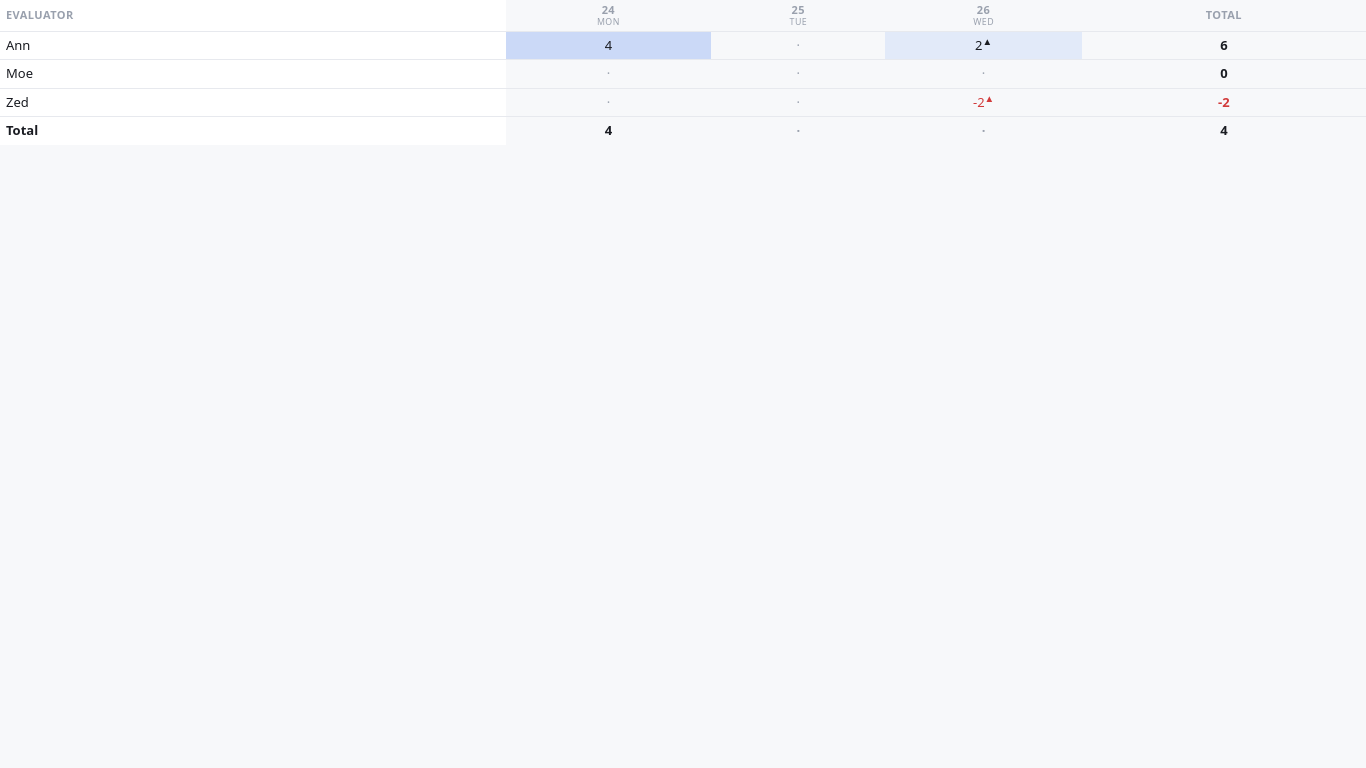
Test case: AssignHistoryMatrix › the giver's total shows what left, without repeating the per-day rows
Click the button "-2" at (1224, 103), box [1088,93,1360,112]
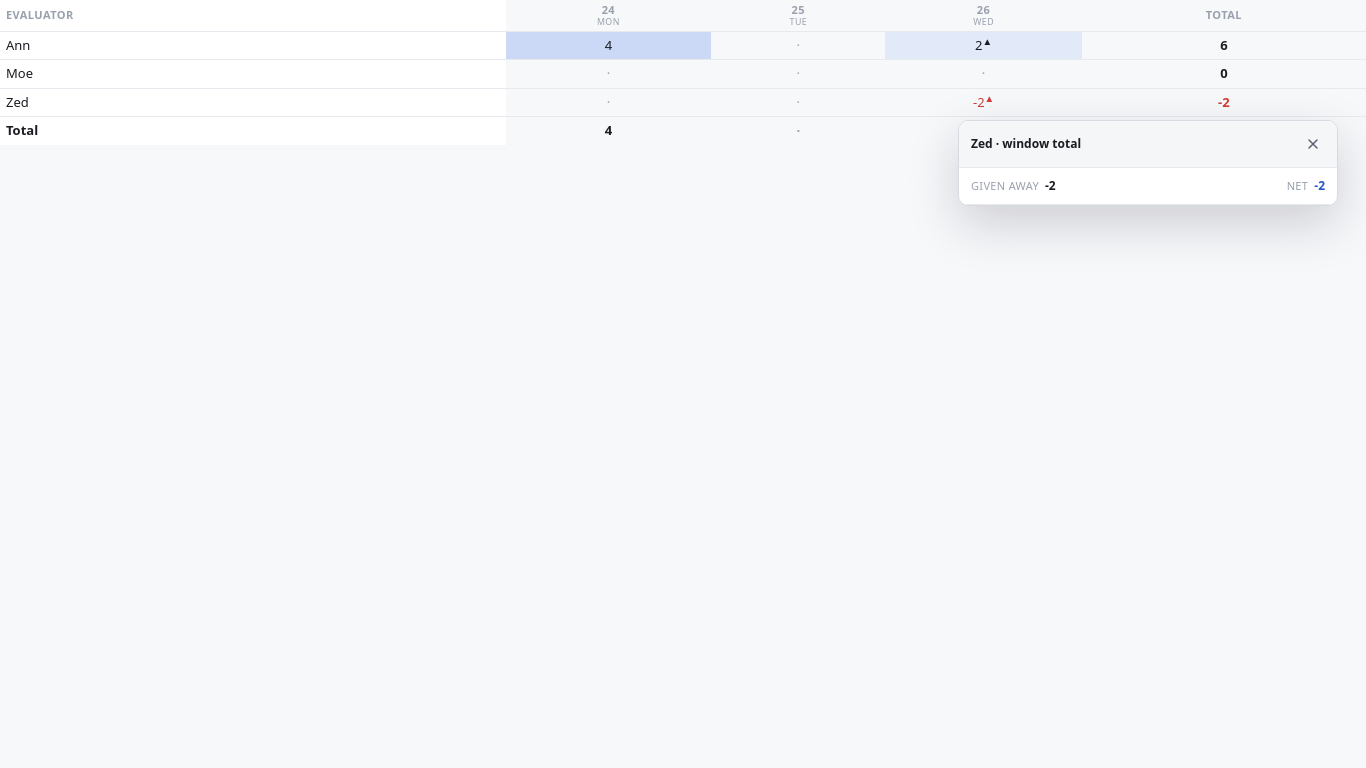
Expected: the dialog shows "Given away", [971,178,1039,193]
Expected: the dialog shows "-2", [1045,177,1056,194]
